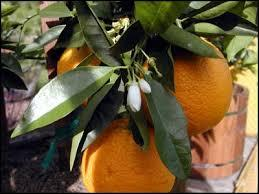orange: (113, 30, 228, 127), (74, 123, 169, 192)
